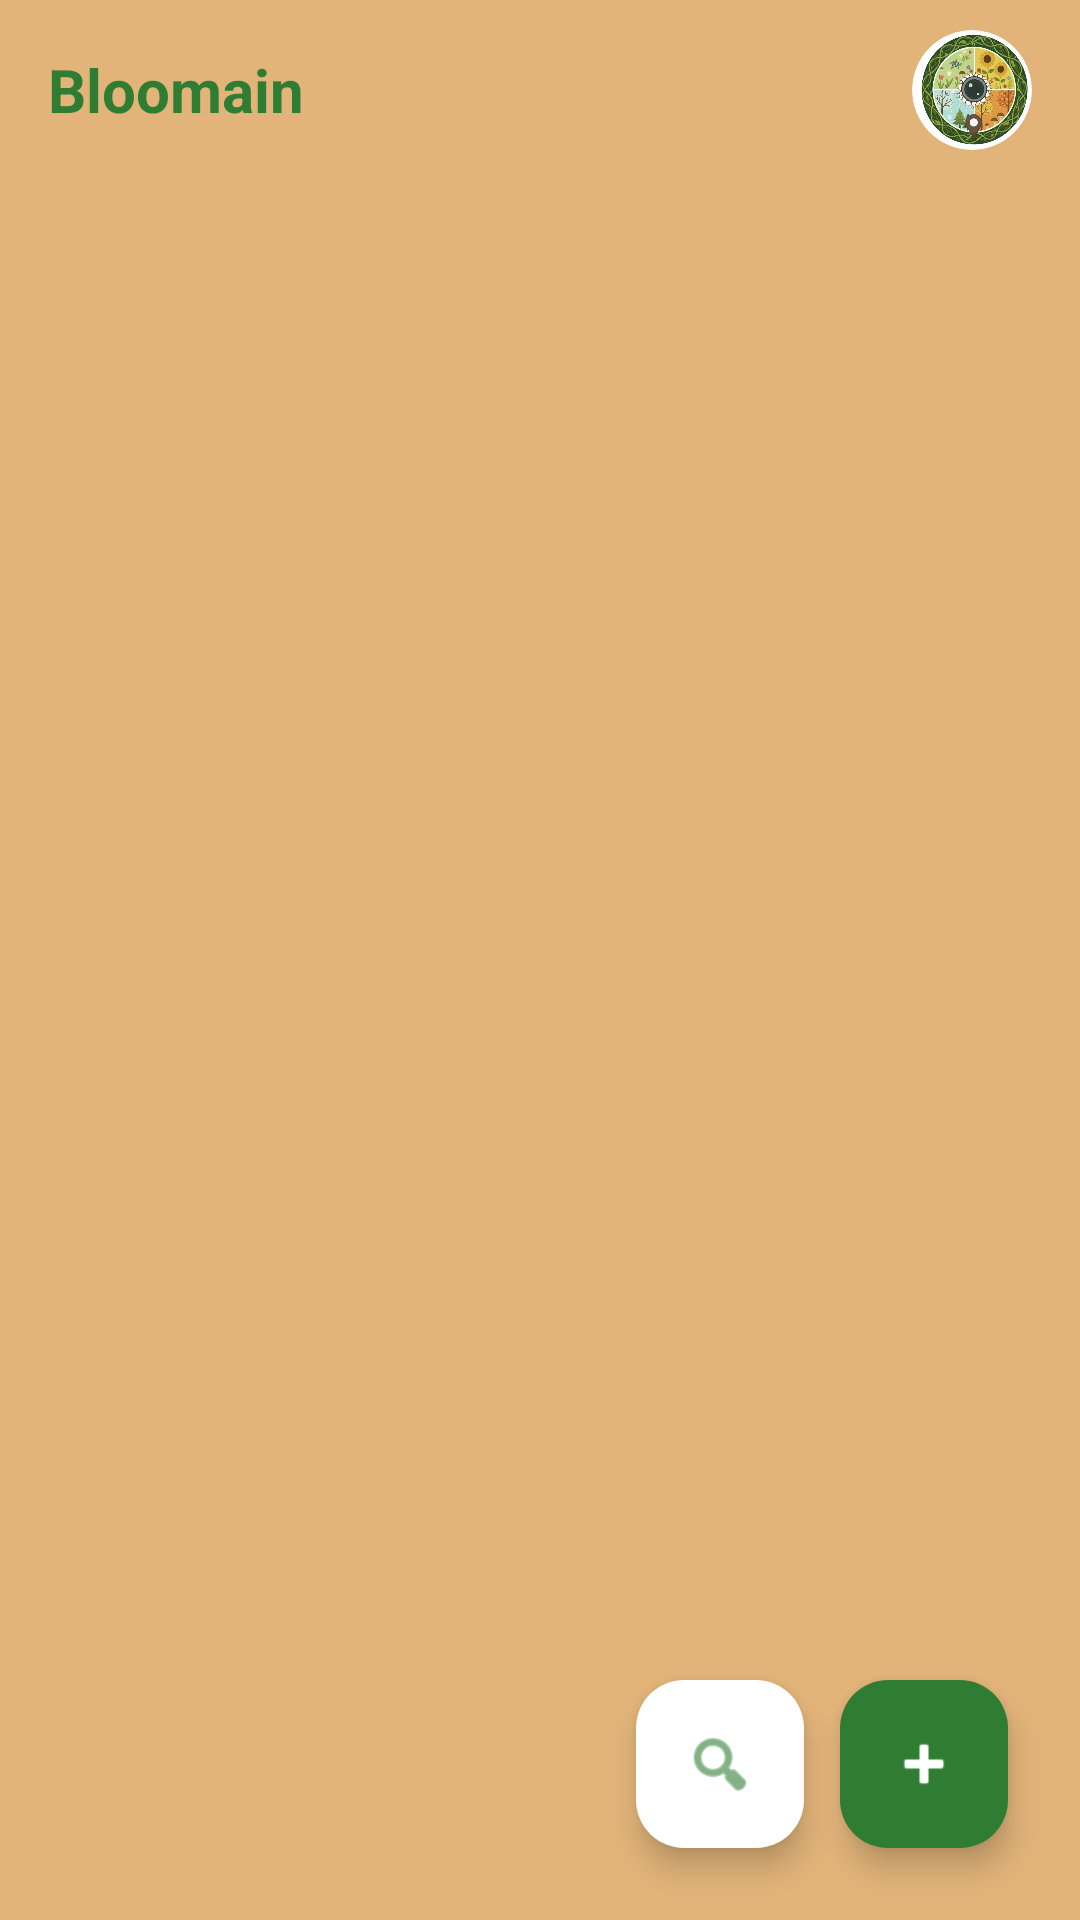

Locate icon controls on the screen. Image size 1080px x 1920px, boxes as BBox(x1, y1, x2, y2).
Criar Post: BBox(840, 1680, 1008, 1848)
Pesquisar: BBox(636, 1680, 804, 1848)
